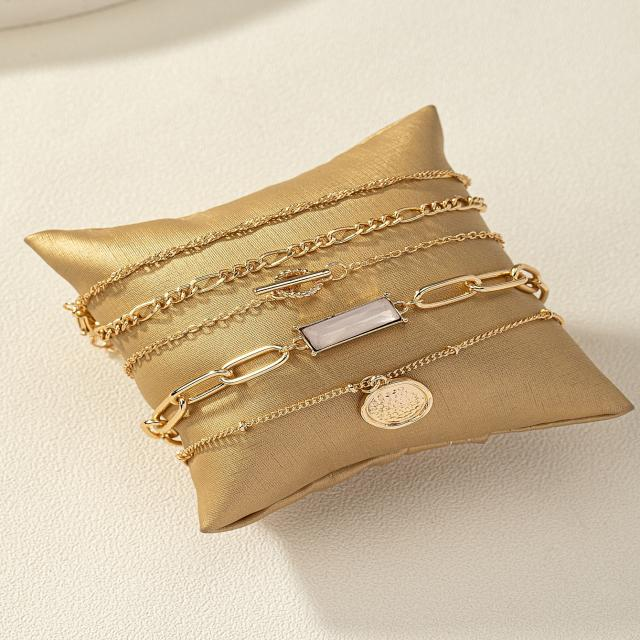bracelet: (0, 128, 639, 489)
